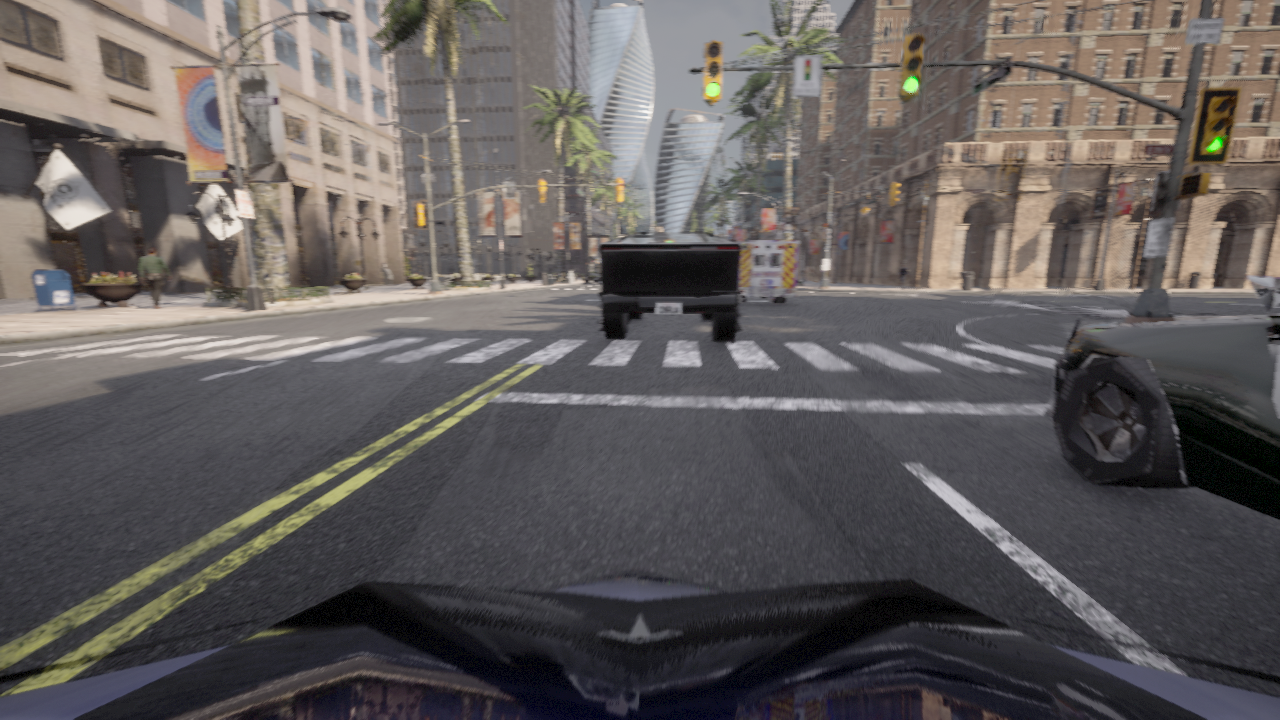cyclist: (0, 569, 1279, 719), (1045, 275, 1279, 520), (597, 232, 742, 341), (737, 241, 798, 303), (584, 272, 600, 283)
pedestrian: (139, 247, 171, 308), (897, 263, 908, 289)
